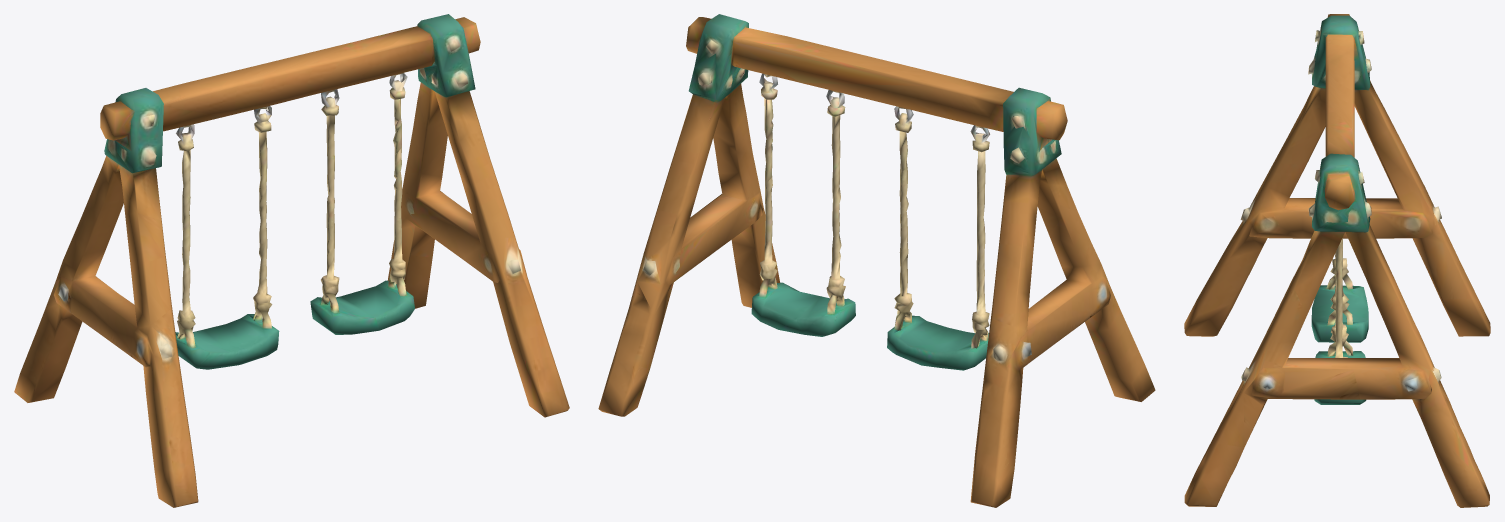
Rendered from swing.glb.
3 renders of one model, left to right at view 1: azimuth 30°, elevation 25°; view 2: azimuth 150°, elevation 25°; view 3: azimuth 270°, elevation 25°, orthographic. The views are drawn at different scales.
Parts seen in each view (by area): view 1: model; view 2: model; view 3: model.
Boxes of the visible parts, x1=… form: model: x1=14, y1=14, x2=569, y2=507; model: x1=598, y1=14, x2=1155, y2=507; model: x1=1184, y1=14, x2=1490, y2=507.
Size of the model in its own units: 1.9 by 1.58 by 1.34.
1 material, 1 textured.
